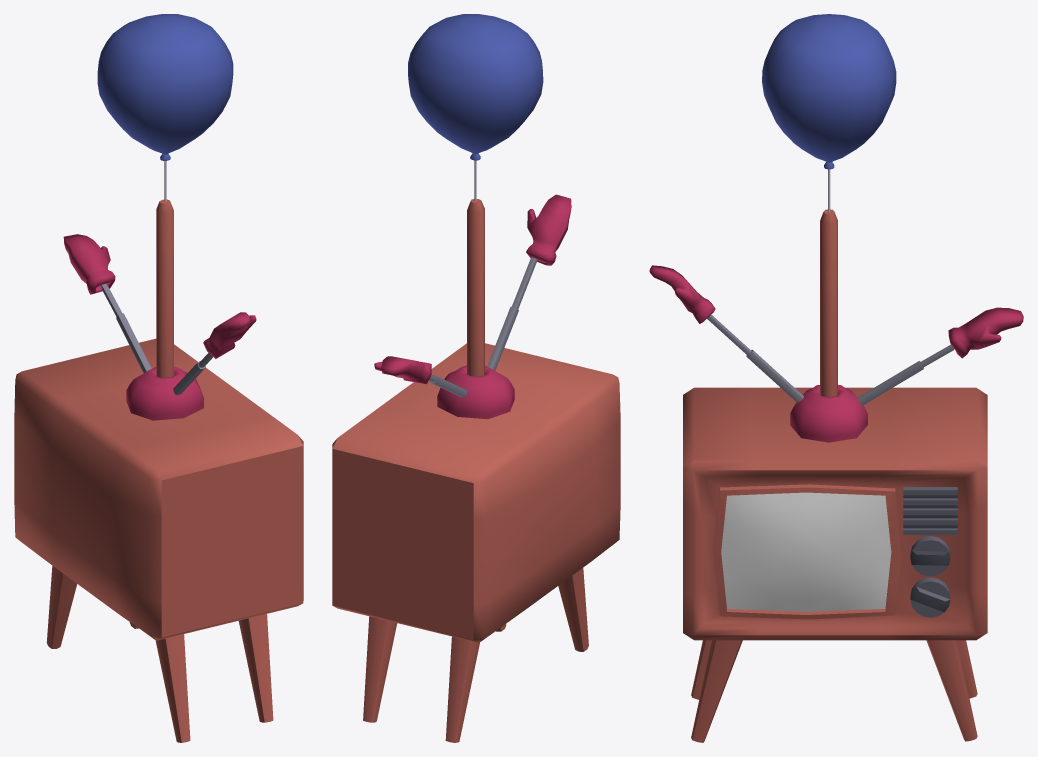
The model's file is Elise.fbx.
3 views of the same model, side by side, from view 1: azimuth 30°, elevation 25°; view 2: azimuth 150°, elevation 25°; view 3: azimuth 270°, elevation 25° (orthographic). The views are drawn at different scales.
Visible parts, largest first — view 1: TV, Balloon, Plunger, Leg_BL, Leg_FL, Glove_R, Leg_BR, Glove_L, Antenna_R, Antenna_L; view 2: TV, Balloon, Plunger, Leg_FR, Leg_BR, Glove_L, Leg_BL, Glove_R, Antenna_L; view 3: TV, TV_screen, Balloon, Plunger, TV_Lines, Leg_FL, Leg_FR, Glove_R, Glove_L, TV_Button_Bottom, TV_Button_Top, Antenna_L (+1 smaller).
Part boxes in pixels (left/top/right/bottom): TV: left=14, top=338, right=303, bottom=640; Balloon: left=97, top=14, right=233, bottom=160; Plunger: left=126, top=199, right=203, bottom=420; Leg_BL: left=155, top=634, right=190, bottom=742; Leg_FL: left=238, top=614, right=273, bottom=722; Glove_R: left=63, top=234, right=115, bottom=294; Leg_BR: left=46, top=566, right=76, bottom=648; Glove_L: left=203, top=312, right=256, bottom=358; Antenna_R: left=100, top=283, right=151, bottom=373; Antenna_L: left=173, top=353, right=212, bottom=395; TV: left=332, top=343, right=620, bottom=642; Balloon: left=408, top=14, right=543, bottom=160; Plunger: left=437, top=199, right=514, bottom=419; Leg_FR: left=363, top=616, right=397, bottom=722; Leg_BR: left=445, top=636, right=479, bottom=742; Glove_L: left=526, top=194, right=571, bottom=265; Leg_BL: left=558, top=568, right=588, bottom=651; Glove_R: left=374, top=356, right=431, bottom=384; Antenna_L: left=487, top=257, right=537, bottom=370; TV: left=683, top=387, right=987, bottom=640; TV_screen: left=721, top=492, right=891, bottom=611; Balloon: left=762, top=14, right=896, bottom=169; Plunger: left=790, top=209, right=867, bottom=442; TV_Lines: left=903, top=487, right=957, bottom=534; Leg_FL: left=691, top=640, right=742, bottom=742; Leg_FR: left=926, top=640, right=977, bottom=741; Glove_R: left=948, top=307, right=1023, bottom=358; Glove_L: left=649, top=265, right=715, bottom=323; TV_Button_Bottom: left=910, top=577, right=950, bottom=617; TV_Button_Top: left=910, top=536, right=950, bottom=576; Antenna_L: left=707, top=314, right=803, bottom=402.
Size of the model in its own units: 363 by 1374 by 667.
Materials: 1 (1 with a texture image).
